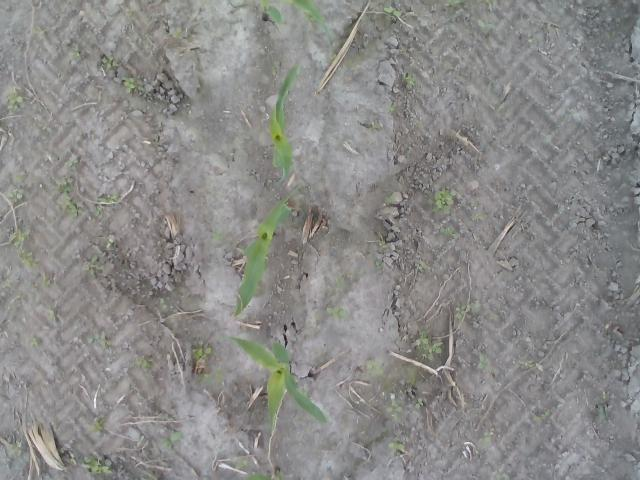Maize: (227, 331, 331, 426), (232, 197, 290, 320), (272, 62, 301, 188), (260, 0, 334, 49), (246, 465, 280, 480)
Weeds: (10, 224, 40, 268), (414, 328, 445, 361), (432, 186, 457, 214), (158, 430, 186, 449), (120, 74, 144, 96), (81, 458, 113, 474), (385, 399, 403, 425), (62, 192, 80, 218), (97, 53, 121, 72), (455, 302, 480, 320), (6, 87, 24, 112), (159, 27, 191, 40), (479, 350, 496, 373), (56, 175, 75, 194), (594, 398, 608, 423), (86, 255, 104, 274), (382, 0, 402, 17), (326, 306, 350, 320), (192, 346, 212, 362), (478, 12, 497, 28), (366, 359, 384, 375), (96, 192, 120, 204), (400, 71, 416, 87), (88, 418, 106, 432), (94, 334, 112, 348), (134, 356, 154, 368), (6, 190, 24, 203), (387, 438, 406, 450), (525, 360, 542, 372), (195, 372, 211, 384), (439, 226, 456, 237), (42, 274, 55, 288), (414, 263, 431, 273), (10, 440, 22, 454), (383, 191, 395, 205), (214, 367, 223, 384), (30, 26, 49, 34), (64, 159, 80, 168), (484, 427, 494, 441), (368, 122, 382, 132), (213, 230, 225, 241), (158, 297, 168, 310), (42, 126, 58, 134), (472, 212, 488, 220), (374, 258, 384, 269), (335, 277, 344, 289), (70, 47, 80, 57), (414, 398, 424, 408), (16, 174, 27, 183), (105, 237, 114, 248), (448, 0, 464, 6), (95, 206, 103, 218), (238, 458, 248, 467), (127, 8, 137, 17), (543, 407, 552, 416), (387, 104, 397, 112), (532, 414, 544, 420), (378, 239, 386, 248), (48, 312, 57, 320), (31, 336, 38, 346), (382, 426, 392, 432), (484, 0, 496, 4)
